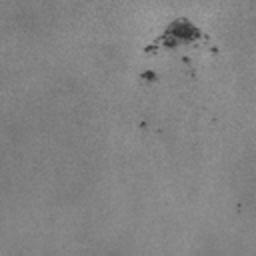Iron sheet ash: (143, 17, 201, 55), (140, 70, 156, 81), (211, 46, 219, 55), (140, 120, 147, 129), (183, 56, 188, 63)
